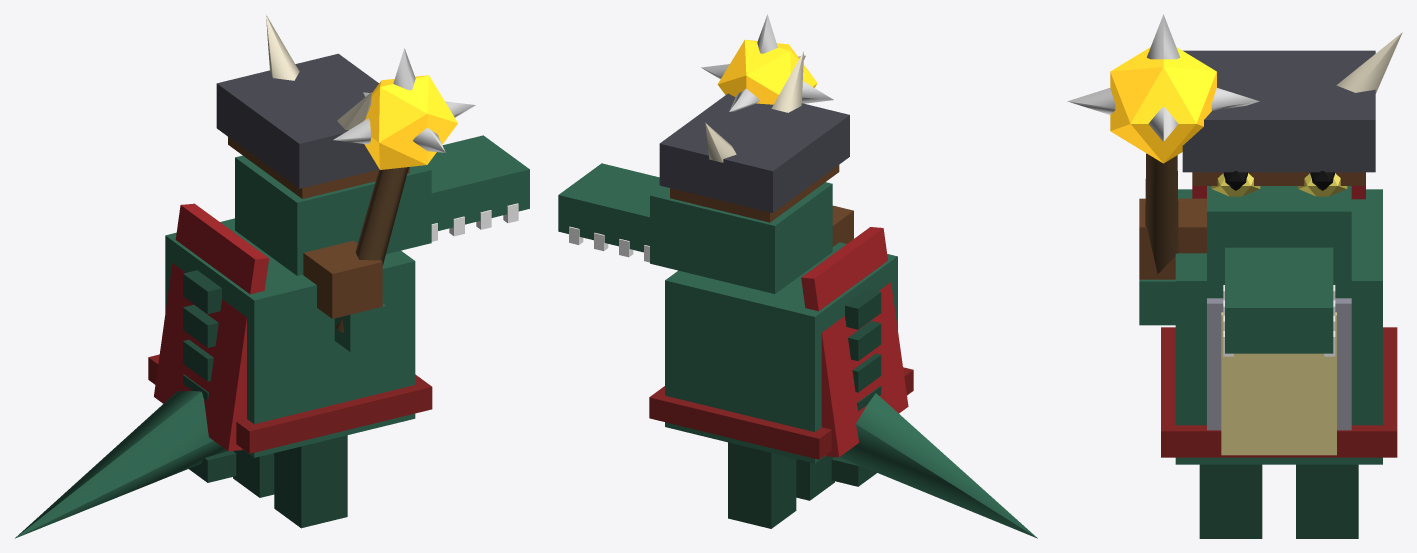
The model's file is level3.glb.
3 renders of one model, left to right at view 1: azimuth 30°, elevation 25°; view 2: azimuth 150°, elevation 25°; view 3: azimuth 270°, elevation 25°, orthographic. The views are drawn at different scales.
Visible parts, largest first — view 1: object 3, object 30, arm, object 34, object 12, object 26, object 13, object 5, object 2, object 29, object 28, object 1 (+6 smaller); view 2: object 3, object 30, object 12, object 34, object 26, object 13, object 5, object 1, arm, object 28, object 2, object 6 (+6 smaller); view 3: object 30, arm, object 3, object 4, object 13, object 12, object 5, object 2, object 1, object 33, object 29, object 28 (+4 smaller).
Part boxes in pixels (box(x1,y1,x2,y2)): object 3: box(165, 218, 415, 457); object 30: box(216, 53, 378, 188); arm: box(333, 48, 475, 351); object 34: box(154, 203, 268, 451); object 12: box(235, 155, 431, 275); object 26: box(15, 391, 227, 538); object 13: box(425, 135, 529, 230); object 5: box(148, 354, 432, 453); object 2: box(274, 435, 347, 528); object 29: box(303, 240, 382, 318); object 28: box(228, 137, 409, 198); object 1: box(233, 449, 274, 497); object 3: box(665, 242, 897, 463); object 30: box(659, 93, 849, 212); object 12: box(650, 182, 832, 293); object 34: box(801, 227, 908, 457); object 26: box(840, 393, 1037, 538); object 13: box(558, 163, 662, 252); object 5: box(649, 367, 913, 459); object 1: box(728, 442, 796, 528); arm: box(701, 14, 833, 111); object 28: box(670, 165, 839, 222); object 2: box(796, 456, 834, 500); object 6: box(845, 289, 881, 329); object 30: box(1182, 50, 1375, 172); arm: box(1067, 14, 1259, 325); object 3: box(1175, 189, 1382, 464); object 4: box(1221, 312, 1336, 455); object 13: box(1225, 247, 1333, 353); object 12: box(1207, 186, 1351, 296); object 5: box(1161, 327, 1397, 457); object 2: box(1199, 464, 1262, 538); object 1: box(1296, 464, 1358, 538); object 33: box(1207, 298, 1351, 430); object 29: box(1139, 198, 1206, 279); object 28: box(1192, 172, 1365, 185).
Size of the model in its own units: 1.65 by 1.51 by 0.8358.
